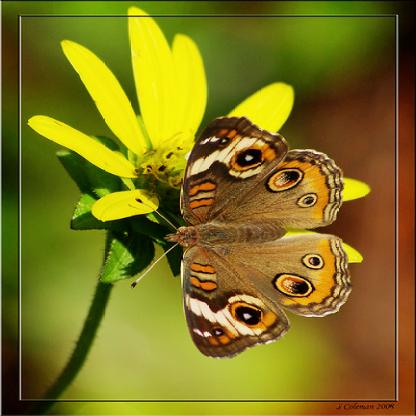Common Buckeye: (130, 86, 366, 369)
